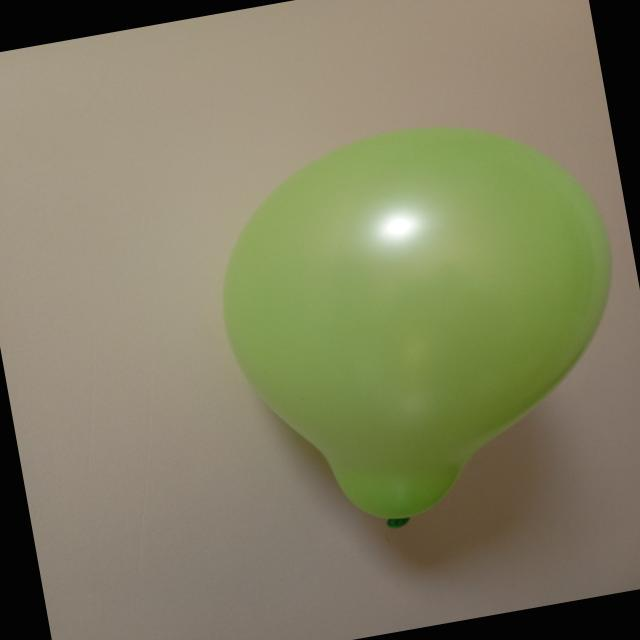balloon: (223, 127, 611, 527)
